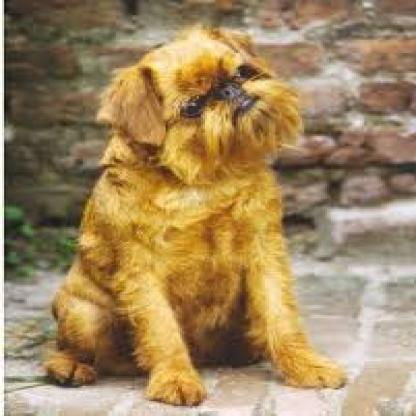Griffon Bruxellois: (37, 13, 370, 412)
